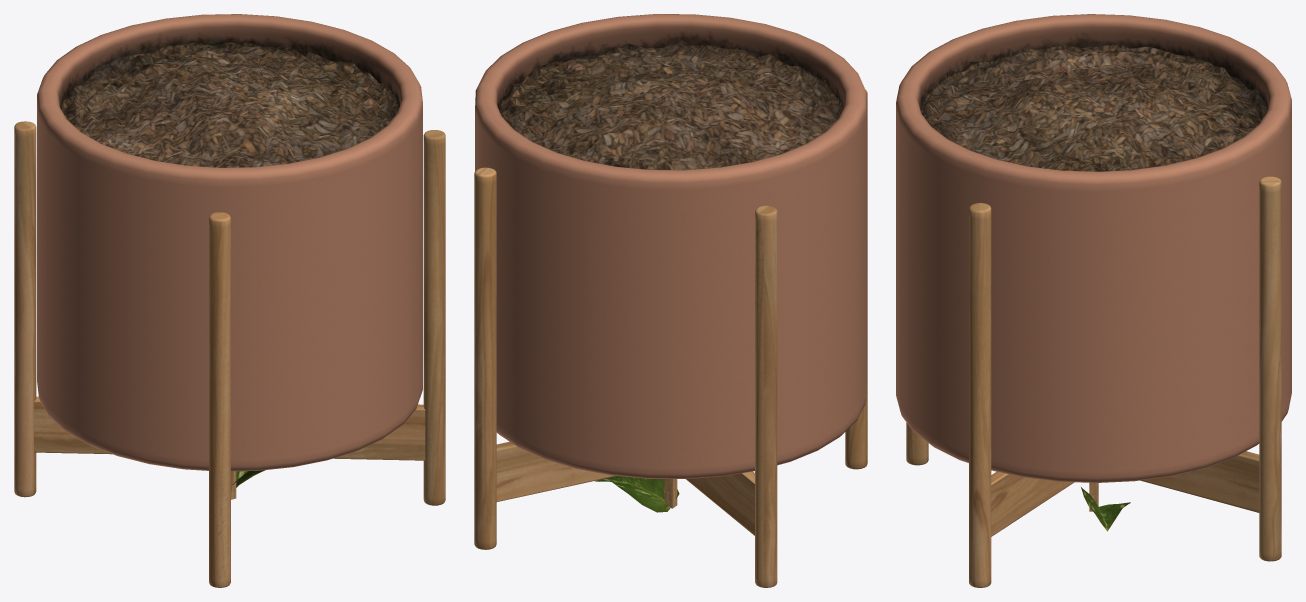
File: plant.glb
3 views of the same model, side by side, from view 1: azimuth 30°, elevation 25°; view 2: azimuth 150°, elevation 25°; view 3: azimuth 270°, elevation 25° (orthographic). The views are drawn at different scales.
Visible parts, largest first — view 1: pot; view 2: pot, leaf; view 3: pot, leaf.
Part boxes in pixels (x1,y1,x2,y2): pot: (14, 14, 445, 587); pot: (474, 14, 867, 587); leaf: (595, 476, 679, 512); pot: (896, 14, 1291, 587); leaf: (1081, 487, 1130, 531).
Size of the model in its own units: 0.44 by 0.5151 by 0.44.
3 materials, 3 textured.
